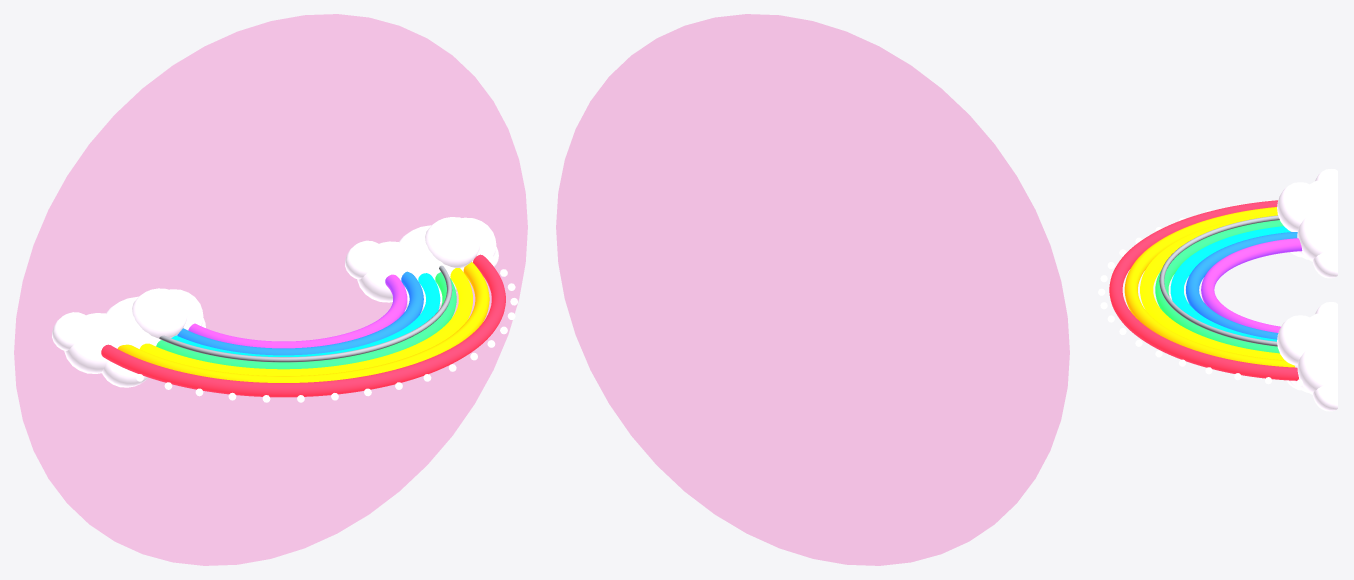
Rendered from arche.glb.
3 renders of one model, left to right at view 1: azimuth 30°, elevation 25°; view 2: azimuth 150°, elevation 25°; view 3: azimuth 270°, elevation 25°, orthographic. The views are drawn at different scales.
Parts seen in each view (by area): view 1: lueur, tube0, tube1, tube2, tube3, tube5, tube6, nuage_d3, nuage_g3, rail, nuage_g2, nuage_d2 (+6 smaller); view 2: lueur; view 3: tube0, tube1, tube2, tube6, tube3, tube5, tube4, nuage_d1, nuage_g1, rail, nuage_d3, nuage_g3 (+4 smaller).
Part boxes in pixels (x1=…): lueur: x1=14, y1=14, x2=527, y2=565; tube0: x1=101, y1=254, x2=505, y2=397; tube1: x1=117, y1=262, x2=489, y2=382; tube2: x1=140, y1=268, x2=472, y2=375; tube3: x1=156, y1=272, x2=456, y2=369; tube5: x1=177, y1=271, x2=423, y2=355; tube6: x1=188, y1=274, x2=407, y2=348; nuage_d3: x1=425, y1=217, x2=480, y2=267; nuage_g3: x1=132, y1=288, x2=187, y2=338; rail: x1=159, y1=265, x2=452, y2=362; nuage_g2: x1=64, y1=313, x2=114, y2=373; nuage_d2: x1=357, y1=241, x2=406, y2=302; lueur: x1=556, y1=14, x2=1069, y2=565; tube0: x1=1109, y1=200, x2=1298, y2=380; tube1: x1=1124, y1=207, x2=1295, y2=367; tube2: x1=1140, y1=213, x2=1284, y2=360; tube6: x1=1201, y1=238, x2=1302, y2=332; tube3: x1=1155, y1=220, x2=1283, y2=353; tube5: x1=1186, y1=232, x2=1297, y2=339; tube4: x1=1170, y1=226, x2=1290, y2=341; nuage_d1: x1=1297, y1=341, x2=1337, y2=394; nuage_g1: x1=1297, y1=208, x2=1337, y2=261; rail: x1=1159, y1=215, x2=1279, y2=346; nuage_d3: x1=1277, y1=315, x2=1321, y2=365; nuage_g3: x1=1277, y1=182, x2=1321, y2=231.
Bounding box in the file's own units: 11.2 × 11.2 × 4.9.
